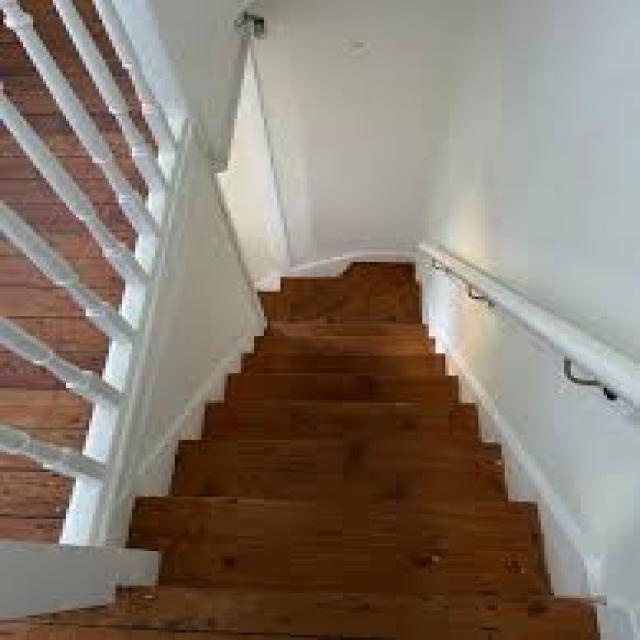stair: (13, 203, 620, 633)
